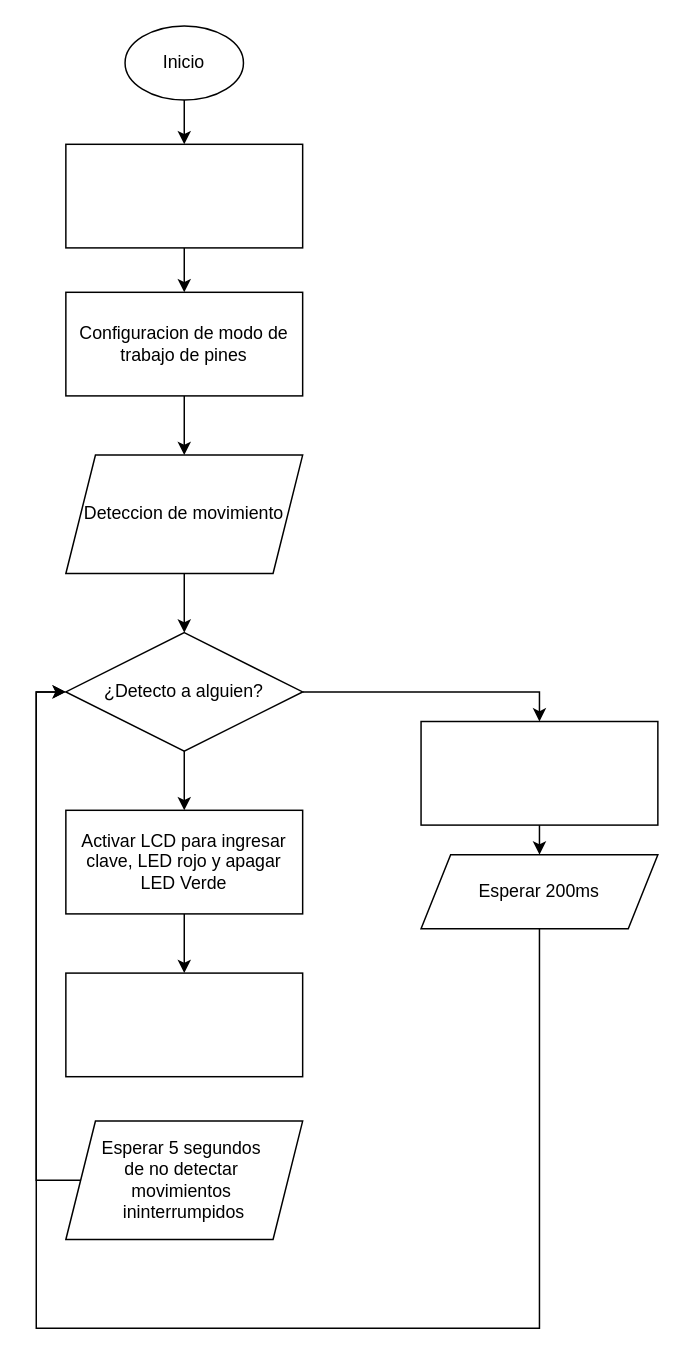
Some shapes in this 684 by 1366 pixel diagram are drawn without their labels. The centre of each missing label's shape, as x and y in pixels:
Creacion de Variables: LED ROJO, LED VERDE, LCD y Sensor: (x=183, y=195)
Incrementar contador de personas: (x=183, y=1024)
Prender y apagar LED verde intermitentemente: (x=539, y=772)
